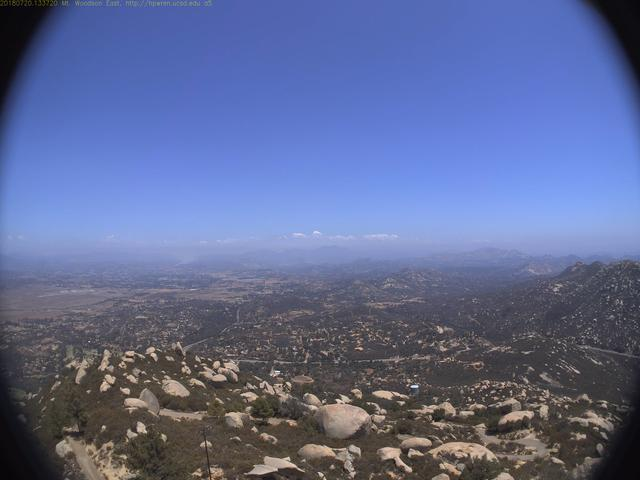smoke: (514, 253, 580, 279)
